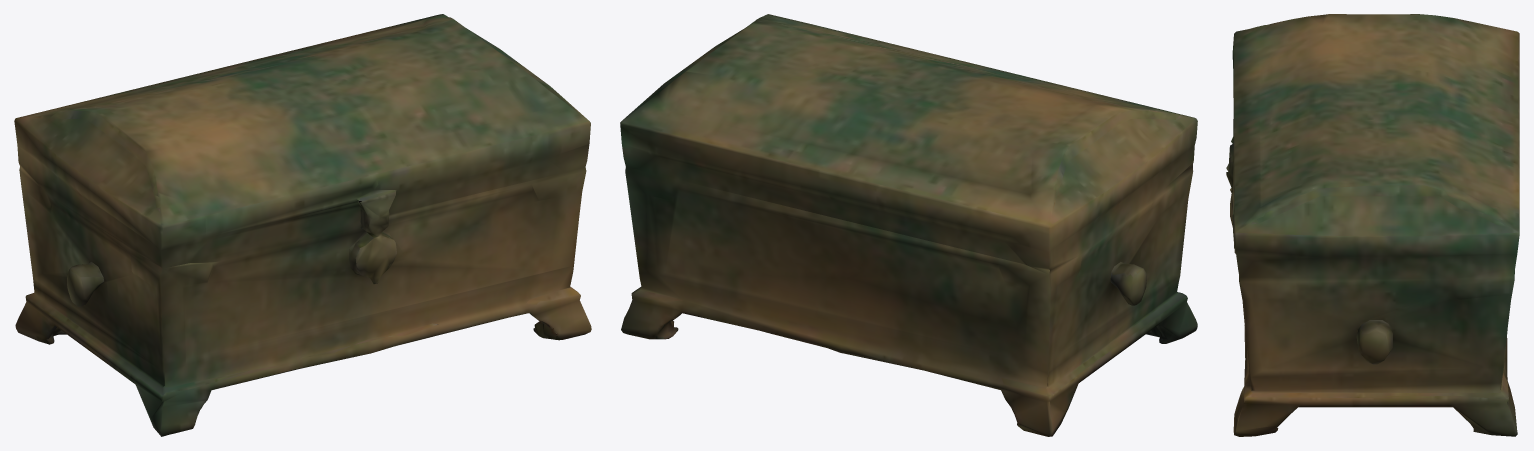
File: chipped-bronze-chest-v001.glb
3 renders of one model, left to right at view 1: azimuth 30°, elevation 25°; view 2: azimuth 150°, elevation 25°; view 3: azimuth 270°, elevation 25°, orthographic. The views are drawn at different scales.
Parts seen in each view (by area): view 1: chipped-bronze-chest; view 2: chipped-bronze-chest; view 3: chipped-bronze-chest.
Boxes of the visible parts, x1,y1,x2,y2 form: chipped-bronze-chest: (14,14,591,436); chipped-bronze-chest: (620,14,1197,436); chipped-bronze-chest: (1226,14,1519,436).
Size of the model in its own units: 1.22 by 0.6293 by 0.6993.
1 material, 1 textured.
